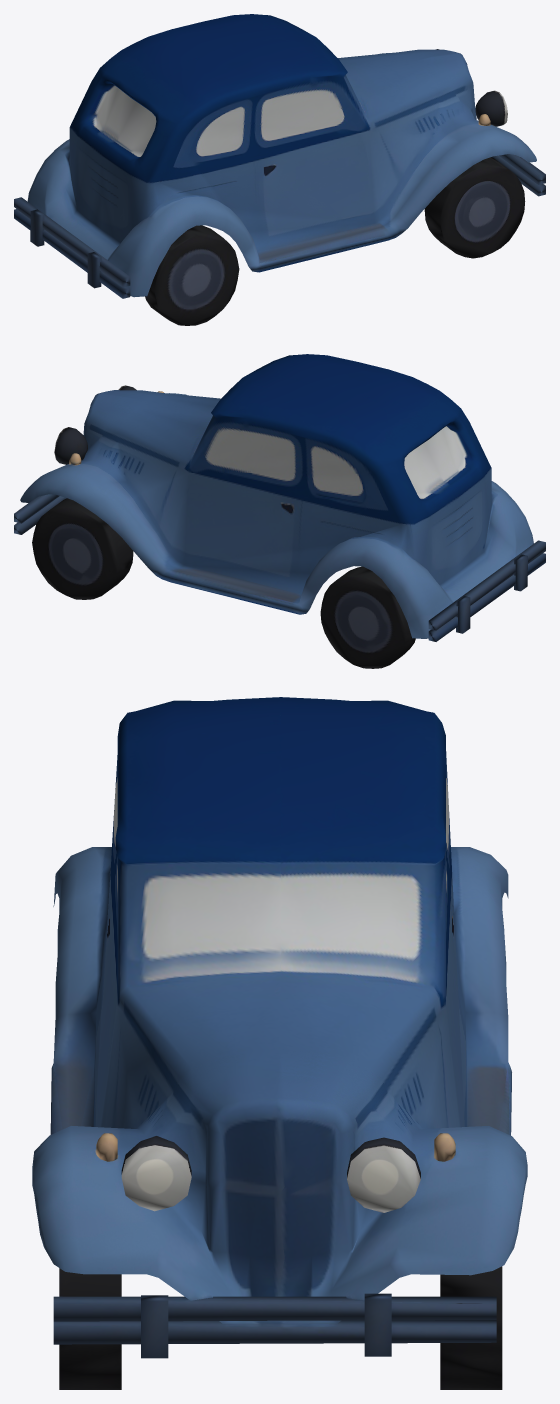
Rendered from carro_banco.glb.
The picture shows the model from 3 angles, top to bottom: view 1: azimuth 30°, elevation 25°; view 2: azimuth 150°, elevation 25°; view 3: azimuth 270°, elevation 25°; orthographic projection. The views are drawn at different scales.
Visible parts, largest first — view 1: tripo_node_5b9c69fb-5314-4ecb-9e68-861ce034866b; view 2: tripo_node_5b9c69fb-5314-4ecb-9e68-861ce034866b; view 3: tripo_node_5b9c69fb-5314-4ecb-9e68-861ce034866b.
Boxes of the visible parts, x1,y1,x2,y2 form: tripo_node_5b9c69fb-5314-4ecb-9e68-861ce034866b: (14,14,545,325); tripo_node_5b9c69fb-5314-4ecb-9e68-861ce034866b: (14,354,545,668); tripo_node_5b9c69fb-5314-4ecb-9e68-861ce034866b: (32,697,527,1389).
Size of the model in its own units: 0.998 by 0.4824 by 0.498.
1 material, 1 textured.
